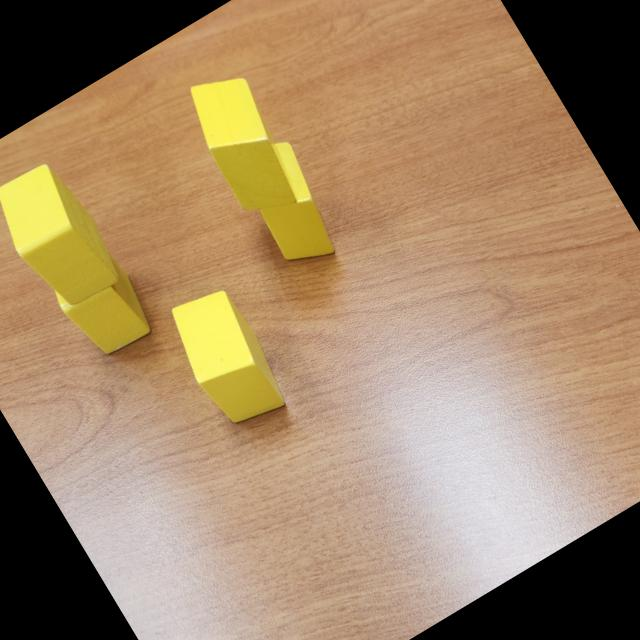yellow: (174, 61, 314, 229), (159, 278, 297, 439), (0, 153, 128, 318), (230, 134, 350, 276), (45, 242, 161, 366)
